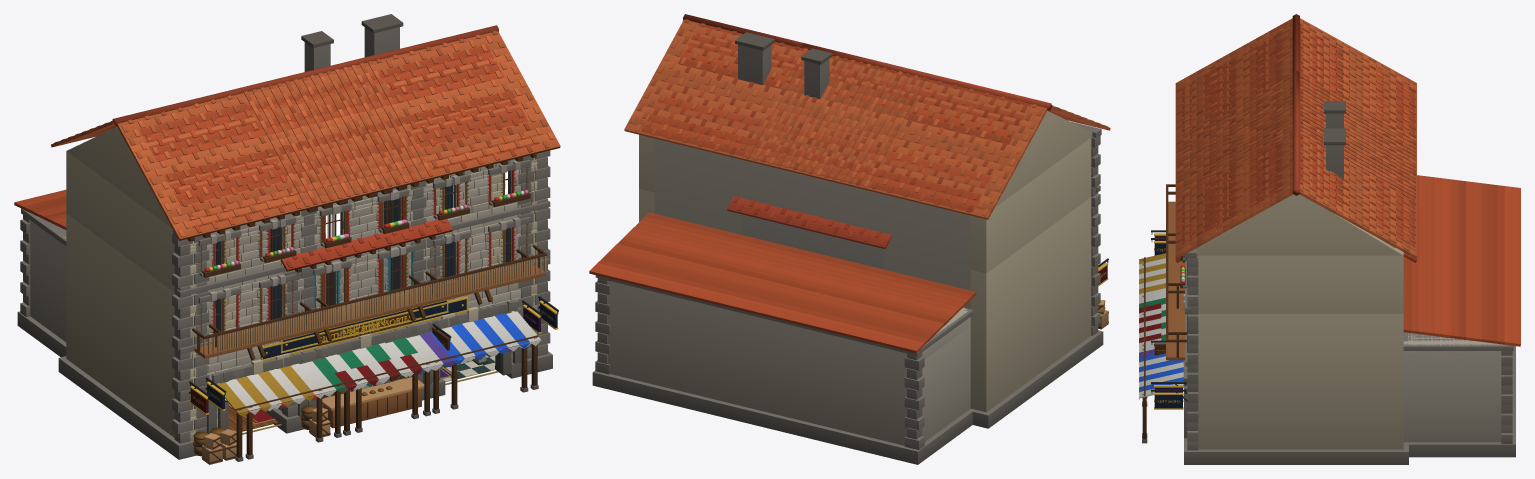
File: plaza_shops.glb
3 views of the same model, side by side, from view 1: azimuth 30°, elevation 25°; view 2: azimuth 150°, elevation 25°; view 3: azimuth 270°, elevation 25° (orthographic). The views are drawn at different scales.
Visible parts, largest first — view 1: ship_store_LOD0, shop_clothes_LOD0, house_e_LOD0, shop_pets_LOD0; view 2: shop_clothes_LOD0, ship_store_LOD0, house_e_LOD0, shop_pets_LOD0; view 3: ship_store_LOD0, shop_clothes_LOD0, house_e_LOD0, shop_pets_LOD0.
Boxes of the visible parts, x1,y1,x2,y2 form: ship_store_LOD0: (51,14,560,464); shop_clothes_LOD0: (14,19,542,460); house_e_LOD0: (240,31,436,398); shop_pets_LOD0: (266,219,452,437); shop_clothes_LOD0: (589,18,1089,464); ship_store_LOD0: (624,14,1110,428); house_e_LOD0: (743,43,931,190); shop_pets_LOD0: (727,196,891,269); ship_store_LOD0: (1139,14,1416,464); shop_clothes_LOD0: (1139,21,1520,457); house_e_LOD0: (1168,70,1416,290); shop_pets_LOD0: (1139,233,1416,398).
Size of what is drawn, in the model's own units: 23.1 by 17.86 by 21.4.
